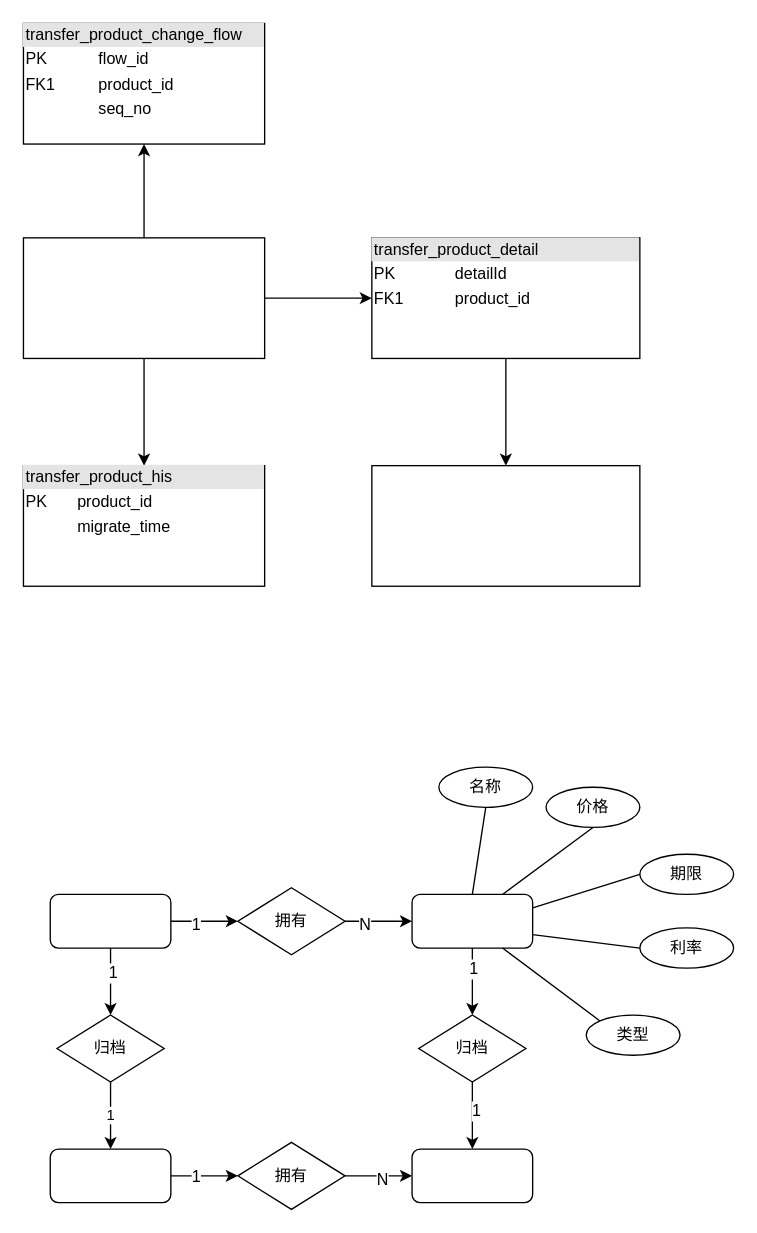
Image size: 757x1233. Some labels were removed from this diagram. The centre of each missing label's shape, as x and y in pixels:
transfer_product PK product_id: the point at 143,297
transfer_product_detail_his PK detail_id migrate_time: the point at 505,525
产品: the point at 110,920
产品历史表: the point at 110,1175
产品详情: the point at 472,920
详情历史表: the point at 472,1175
